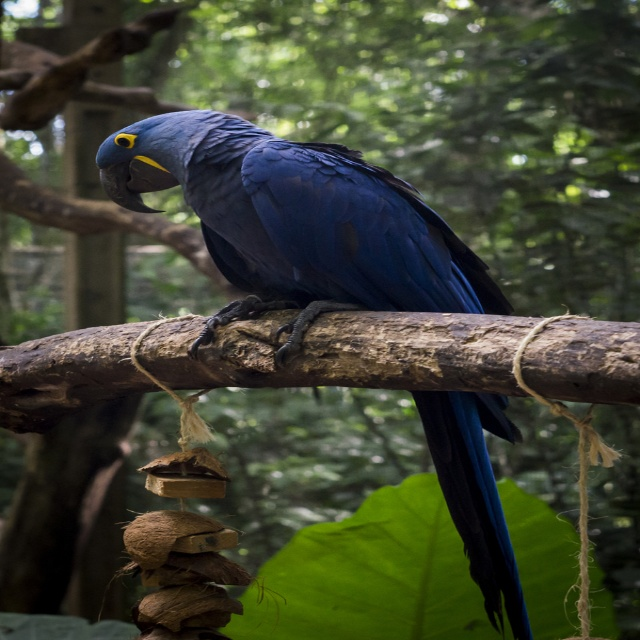Parrot: (61, 111, 548, 639)
